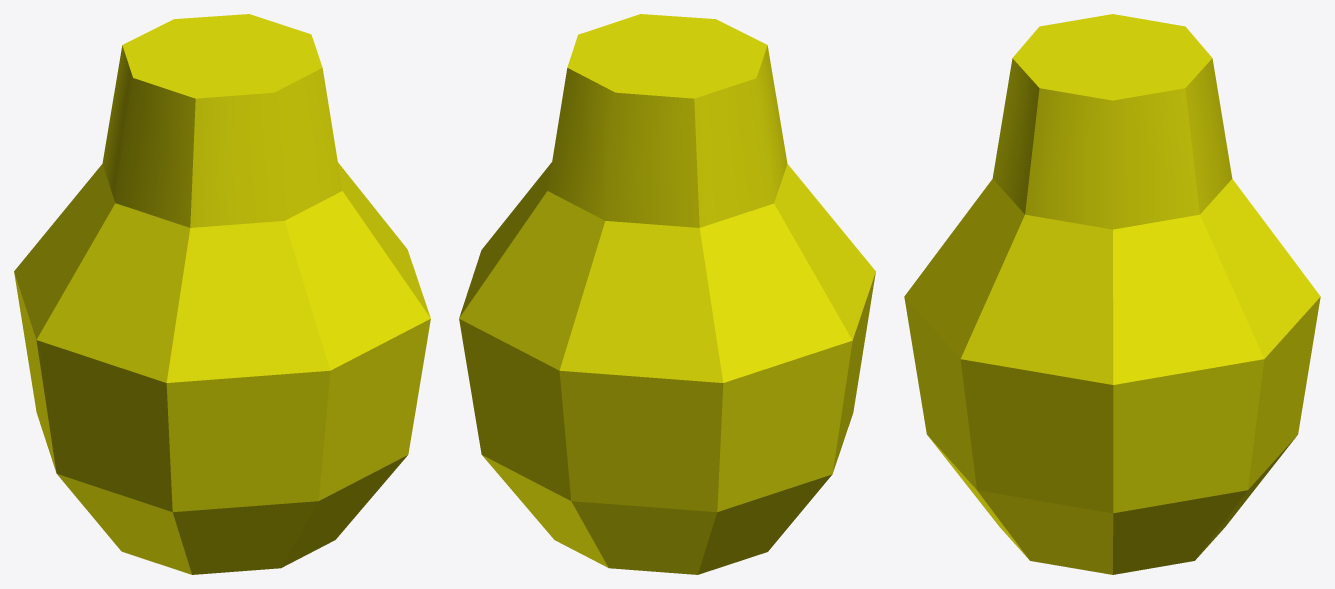
Rendered from light bulb.fbx.
The picture shows the model from 3 angles, left to right: view 1: azimuth 30°, elevation 25°; view 2: azimuth 150°, elevation 25°; view 3: azimuth 270°, elevation 25°; orthographic projection.
Visible parts, largest first — view 1: pCube1; view 2: pCube1; view 3: pCube1.
Boxes of the visible parts, <box> form: pCube1: <box>14,14,430,574</box>; pCube1: <box>459,14,875,574</box>; pCube1: <box>904,14,1320,574</box>.
Size of the model in its own units: 3.83 by 4.64 by 3.74.
